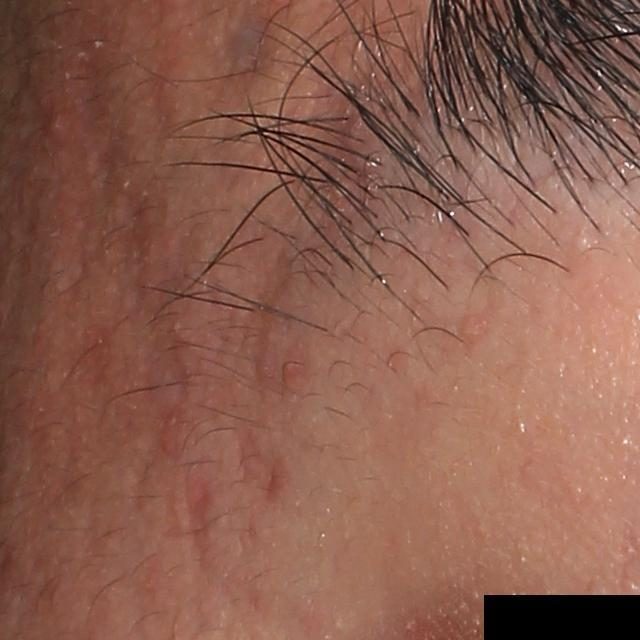comedo: (565, 226, 592, 253)
papule: (37, 109, 74, 148)
